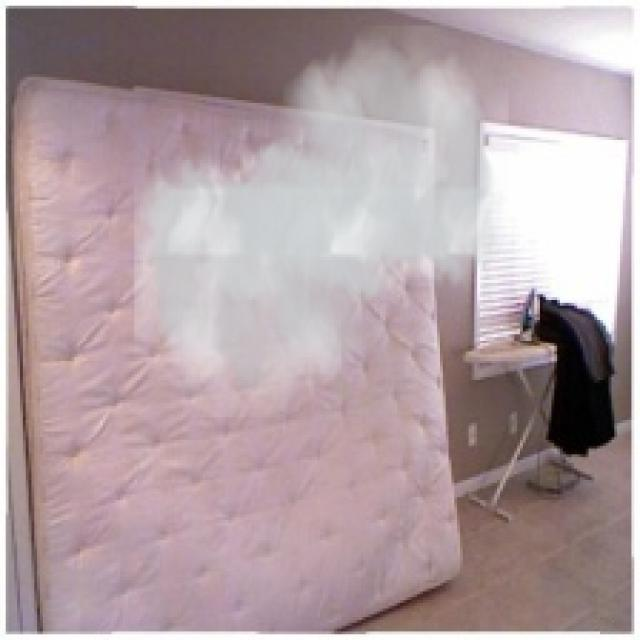Smoke: (134, 26, 509, 417)
